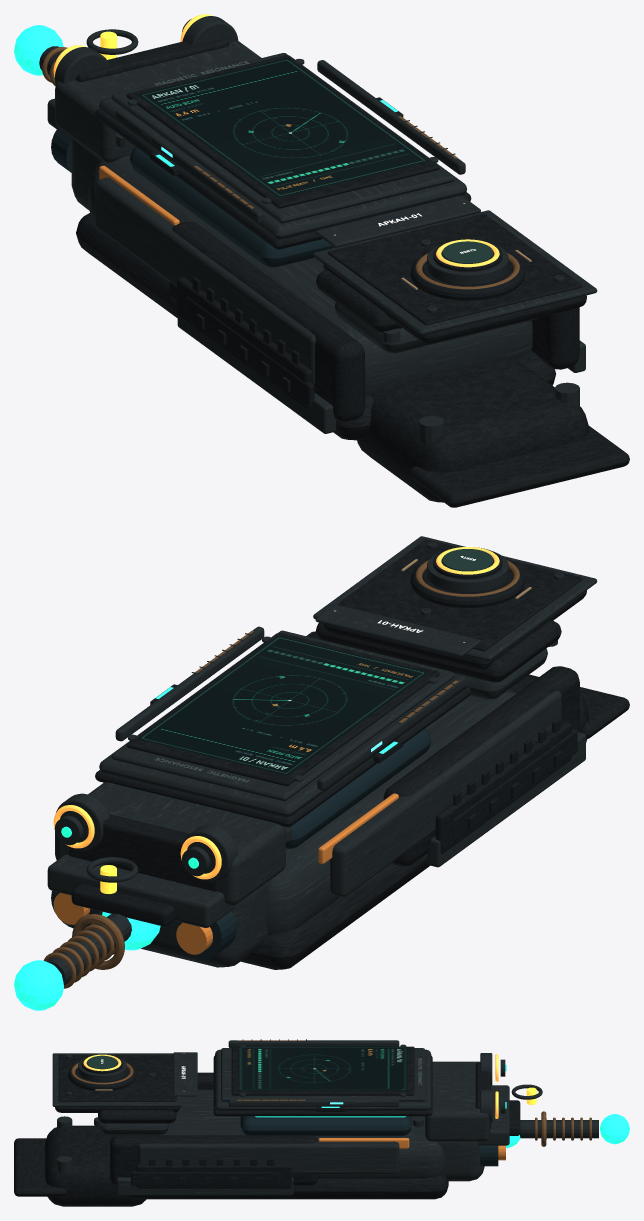
File: arkan-v112r-draco.glb
3 views of the same model, one above another, from view 1: azimuth 30°, elevation 25°; view 2: azimuth 150°, elevation 25°; view 3: azimuth 270°, elevation 25° (orthographic). The views are drawn at different scales.
Visible parts, largest first — view 1: GZ110_ORIGINAL_V37_CORE_RETAINED, GZ110_MFD_SCREEN, GZ112_AR_ControlInsert, GZ110_Side_Alloy_Reinforcement, GZ111_Heel_ProtectiveGasket, GZ110_Head_Reinforced_Base, GZ110_CNC_Inner_GraphiteRim, GZ110_CNC_Display_Titanium_Rim, GZ110_CNC_MFD_Outer_Gasket, GZ112_AR_PanelRim, GZ112_AR_EngravedNameplate, GZ110_Side_Elastic_Bumper (+13 smaller); view 2: GZ110_ORIGINAL_V37_CORE_RETAINED, GZ110_MFD_SCREEN, GZ110_Side_Alloy_Reinforcement, GZ112_AR_ControlInsert, GZ110_Head_Reinforced_Base, GZ110_CNC_Inner_GraphiteRim, GZ111_Emitter_BottomArmature, GZ110_Head_Insulating_Bridge, GZ110_CNC_Display_Titanium_Rim, GZ110_CNC_MFD_Outer_Gasket, GZ110_PalmSwitch_RubberPad, GZ110_CNC_Sealed_Display_Gasket (+18 smaller); view 3: GZ110_ORIGINAL_V37_CORE_RETAINED, GZ110_MFD_SCREEN, GZ110_Side_Alloy_Reinforcement.001, GZ110_Head_Reinforced_Base, GZ112_AR_ControlInsert, GZ110_CNC_Inner_GraphiteRim, GZ110_Side_Elastic_Bumper.001, GZ111_Heel_ProtectiveGasket, GZ111_Bumper_RecessedRubber.001, GZ110_CNC_MFD_Outer_Gasket, GZ110_CNC_Sealed_Display_Gasket, GZ110_CNC_Display_Titanium_Rim (+17 smaller).
Boxes of the visible parts, x1,y1,x2,y2 form: GZ110_ORIGINAL_V37_CORE_RETAINED: (14,25,588,502); GZ110_MFD_SCREEN: (137,57,428,197); GZ112_AR_ControlInsert: (327,213,582,325); GZ110_Side_Alloy_Reinforcement: (95,177,315,384); GZ111_Heel_ProtectiveGasket: (409,426,629,507); GZ110_Head_Reinforced_Base: (55,41,261,162); GZ110_CNC_Inner_GraphiteRim: (111,53,454,223); GZ110_CNC_Display_Titanium_Rim: (99,55,466,239); GZ110_CNC_MFD_Outer_Gasket: (126,55,439,208); GZ112_AR_PanelRim: (313,210,597,335); GZ112_AR_EngravedNameplate: (315,195,480,247); GZ110_Side_Elastic_Bumper: (177,277,312,409); GZ110_ORIGINAL_V37_CORE_RETAINED: (14,631,588,1010); GZ110_MFD_SCREEN: (137,635,428,775); GZ110_Side_Alloy_Reinforcement: (330,690,561,896); GZ112_AR_ControlInsert: (337,539,582,651); GZ110_Head_Reinforced_Base: (55,782,285,905); GZ110_CNC_Inner_GraphiteRim: (111,630,454,801); GZ111_Emitter_BottomArmature: (47,855,234,927); GZ110_Head_Insulating_Bridge: (69,814,217,891); GZ110_CNC_Display_Titanium_Rim: (99,633,466,816); GZ110_CNC_MFD_Outer_Gasket: (126,633,439,786); GZ110_PalmSwitch_RubberPad: (316,620,561,682); GZ110_CNC_Sealed_Display_Gasket: (95,686,471,827); GZ110_ORIGINAL_V37_CORE_RETAINED: (45,1072,629,1206); GZ110_MFD_SCREEN: (238,1046,407,1090); GZ110_Side_Alloy_Reinforcement.001: (138,1141,399,1174); GZ110_Head_Reinforced_Base: (425,1061,490,1141); GZ112_AR_ControlInsert: (58,1054,176,1101); GZ110_CNC_Inner_GraphiteRim: (221,1048,425,1101); GZ110_Side_Elastic_Bumper.001: (136,1164,291,1188); GZ111_Heel_ProtectiveGasket: (14,1138,66,1196); GZ111_Bumper_RecessedRubber.001: (131,1171,278,1185); GZ110_CNC_MFD_Outer_Gasket: (231,1046,414,1095); GZ110_CNC_Sealed_Display_Gasket: (213,1056,432,1116); GZ110_CNC_Display_Titanium_Rim: (215,1049,431,1110).
Size of the model in its own units: 0.1255 by 0.0924 by 0.4075.
Materials: 30 (18 with a texture image).
